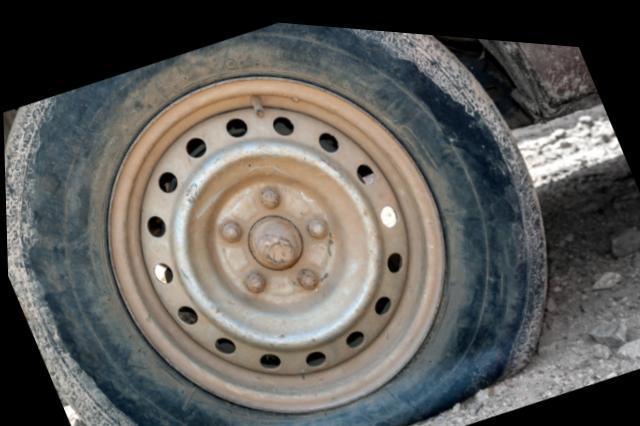tire flat: (4, 18, 547, 426)
